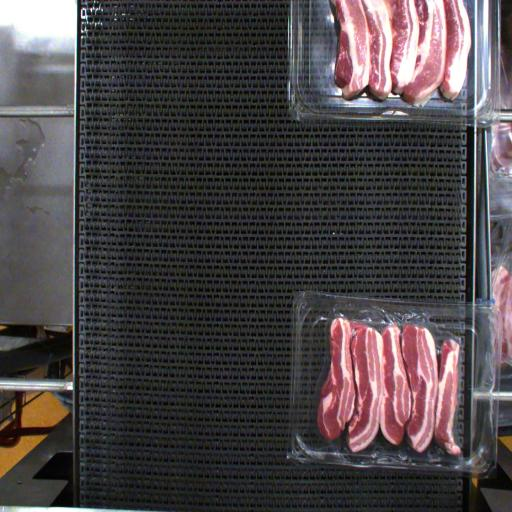unsealed: (314, 304, 468, 428)
